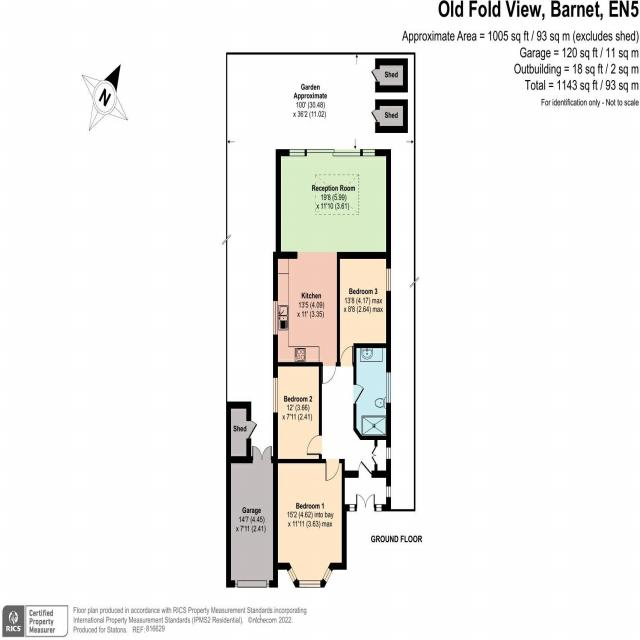DOOR: (325, 458, 340, 481), (306, 435, 322, 456), (322, 362, 336, 385), (340, 345, 353, 366), (358, 460, 372, 478), (353, 384, 364, 404)
ROOM: (273, 149, 391, 385), (273, 459, 347, 588), (336, 251, 391, 367), (272, 362, 322, 464)
SLIDING DOOR: (306, 148, 362, 159)
WINDOW: (273, 377, 278, 413), (299, 580, 321, 588), (273, 300, 278, 335), (386, 371, 391, 404), (287, 567, 297, 583), (322, 567, 332, 583), (289, 149, 305, 157), (386, 268, 391, 292), (362, 149, 375, 156), (386, 447, 391, 460), (386, 486, 391, 498), (349, 504, 355, 512), (376, 504, 382, 511)
